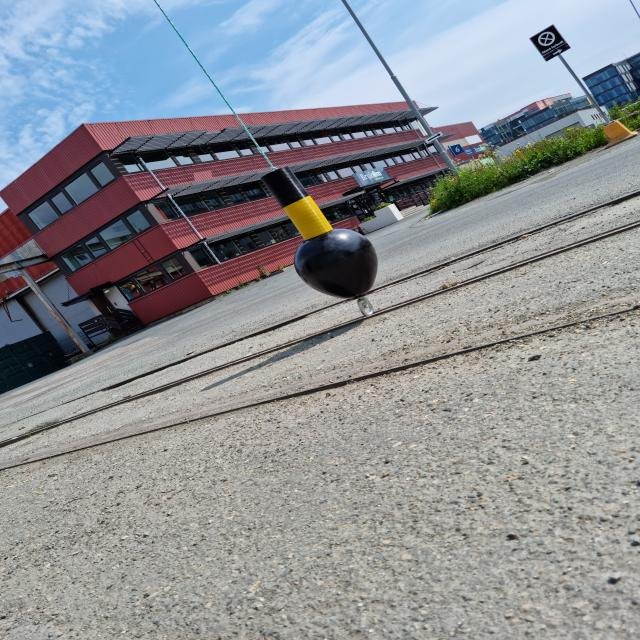east: (261, 166, 378, 298)
